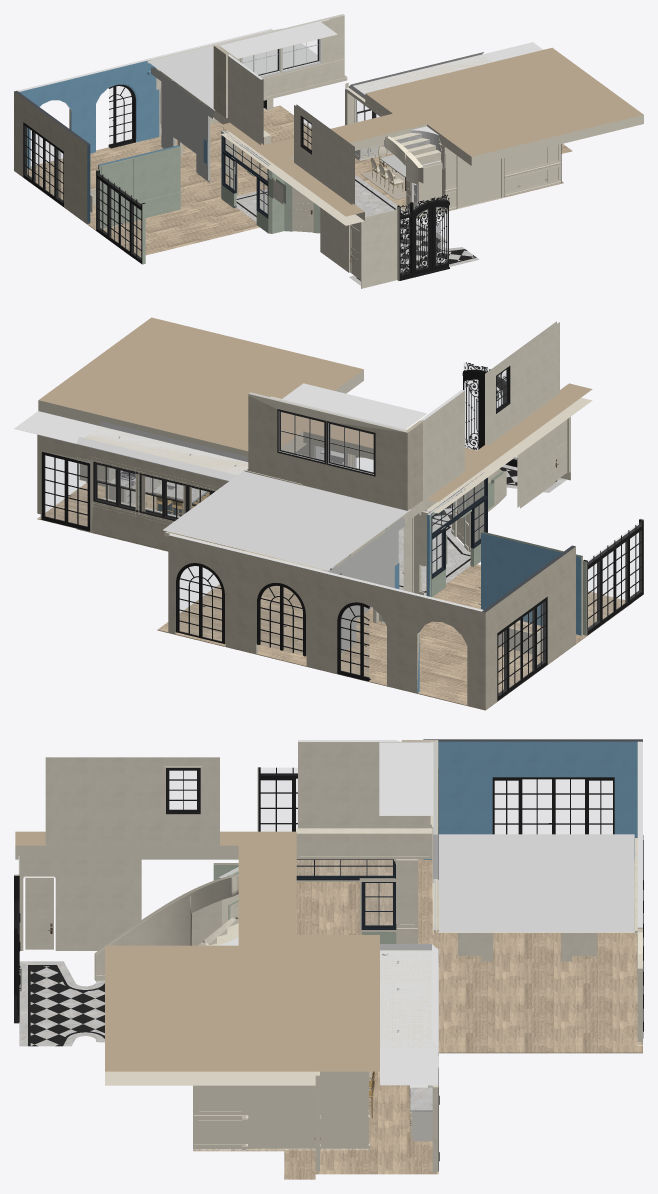
The model's file is kitchen-3581a9af4f3a.glb.
The picture shows the model from 3 angles, top to bottom: view 1: azimuth 30°, elevation 25°; view 2: azimuth 150°, elevation 25°; view 3: azimuth 270°, elevation 25°; orthographic projection. The views are drawn at different scales.
Visible parts, largest first — view 1: kitchen-look-2575515a05775d9e, kitchen-look-3b0077416469e01b, kitchen-look-969b861f9850351e, kitchen-19647d6da46c2b80, kitchen-look-b19b106fc304963c, kitchen-look-039192b0560cfac3, kitchen-look-4a969f5cc1ae3dfe, kitchen-look-746250f96522f643, kitchen-look-55ff1dfd7b659ec1, kitchen-look-245f595ae2832e16, kitchen-look-d5a4a1b5d3594c04, kitchen-look-7f59123d155b94ce (+37 smaller); view 2: kitchen-look-2575515a05775d9e, kitchen-look-969b861f9850351e, kitchen-look-3b0077416469e01b, kitchen-look-4a969f5cc1ae3dfe, kitchen-look-245f595ae2832e16, kitchen-look-039192b0560cfac3, kitchen-look-746250f96522f643, kitchen-bfb9fa537cd11d1d, kitchen-look-b19b106fc304963c, kitchen-49bdd6945a2d0056, kitchen-look-7f59123d155b94ce, kitchen-look-55ff1dfd7b659ec1 (+39 smaller); view 3: kitchen-look-2575515a05775d9e, kitchen-look-3b0077416469e01b, kitchen-look-4a969f5cc1ae3dfe, kitchen-look-746250f96522f643, kitchen-look-039192b0560cfac3, kitchen-look-85f0fd939e0fcc78, kitchen-look-7f59123d155b94ce, kitchen-9a0e9ee9b2a451d7, kitchen-look-e388ad8855329420, kitchen-look-daececc498878d00, kitchen-5b6bbac285e58726, kitchen-look-9d91b47435c6fb33 (+28 smaller).
Boxes of the visible parts, box(x1,y1,x2,y2) form: kitchen-look-2575515a05775d9e: box(221, 47, 643, 225); kitchen-look-3b0077416469e01b: box(14, 105, 572, 257); kitchen-look-969b861f9850351e: box(17, 28, 273, 168); kitchen-19647d6da46c2b80: box(444, 144, 560, 208); kitchen-look-b19b106fc304963c: box(98, 145, 180, 228); kitchen-look-039192b0560cfac3: box(14, 91, 90, 223); kitchen-look-4a969f5cc1ae3dfe: box(147, 28, 346, 110); kitchen-look-746250f96522f643: box(294, 104, 354, 205); kitchen-look-55ff1dfd7b659ec1: box(151, 67, 214, 180); kitchen-look-245f595ae2832e16: box(214, 14, 344, 97); kitchen-look-d5a4a1b5d3594c04: box(361, 209, 397, 288); kitchen-look-7f59123d155b94ce: box(228, 54, 263, 144); kitchen-look-2575515a05775d9e: box(38, 317, 592, 513); kitchen-look-969b861f9850351e: box(168, 533, 483, 708); kitchen-look-3b0077416469e01b: box(37, 479, 632, 710); kitchen-look-4a969f5cc1ae3dfe: box(163, 471, 410, 570); kitchen-look-245f595ae2832e16: box(248, 392, 407, 510); kitchen-look-039192b0560cfac3: box(481, 545, 575, 709); kitchen-look-746250f96522f643: box(485, 321, 559, 445); kitchen-bfb9fa537cd11d1d: box(76, 444, 246, 551); kitchen-look-b19b106fc304963c: box(481, 531, 582, 635); kitchen-49bdd6945a2d0056: box(76, 421, 248, 480); kitchen-look-7f59123d155b94ce: box(419, 390, 464, 511); kitchen-look-55ff1dfd7b659ec1: box(328, 517, 404, 653); kitchen-look-2575515a05775d9e: box(15, 831, 379, 1085); kitchen-look-3b0077416469e01b: box(284, 859, 642, 1179); kitchen-look-4a969f5cc1ae3dfe: box(438, 834, 634, 932); kitchen-look-746250f96522f643: box(45, 757, 219, 845); kitchen-look-039192b0560cfac3: box(423, 739, 642, 859); kitchen-look-85f0fd939e0fcc78: box(19, 859, 141, 950); kitchen-look-7f59123d155b94ce: box(298, 740, 401, 828); kitchen-9a0e9ee9b2a451d7: box(380, 950, 438, 1047); kitchen-look-e388ad8855329420: box(30, 966, 104, 1046); kitchen-look-daececc498878d00: box(296, 828, 432, 859); kitchen-5b6bbac285e58726: box(247, 1085, 315, 1150); kitchen-look-9d91b47435c6fb33: box(379, 742, 432, 815).
Size of the model in its own units: 20.84 by 6.36 by 16.8.
71 materials, 15 textured.
